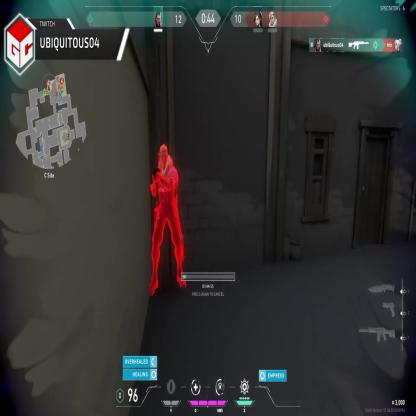enemy: (150, 143, 187, 295)
enemy_head: (158, 144, 169, 170)
